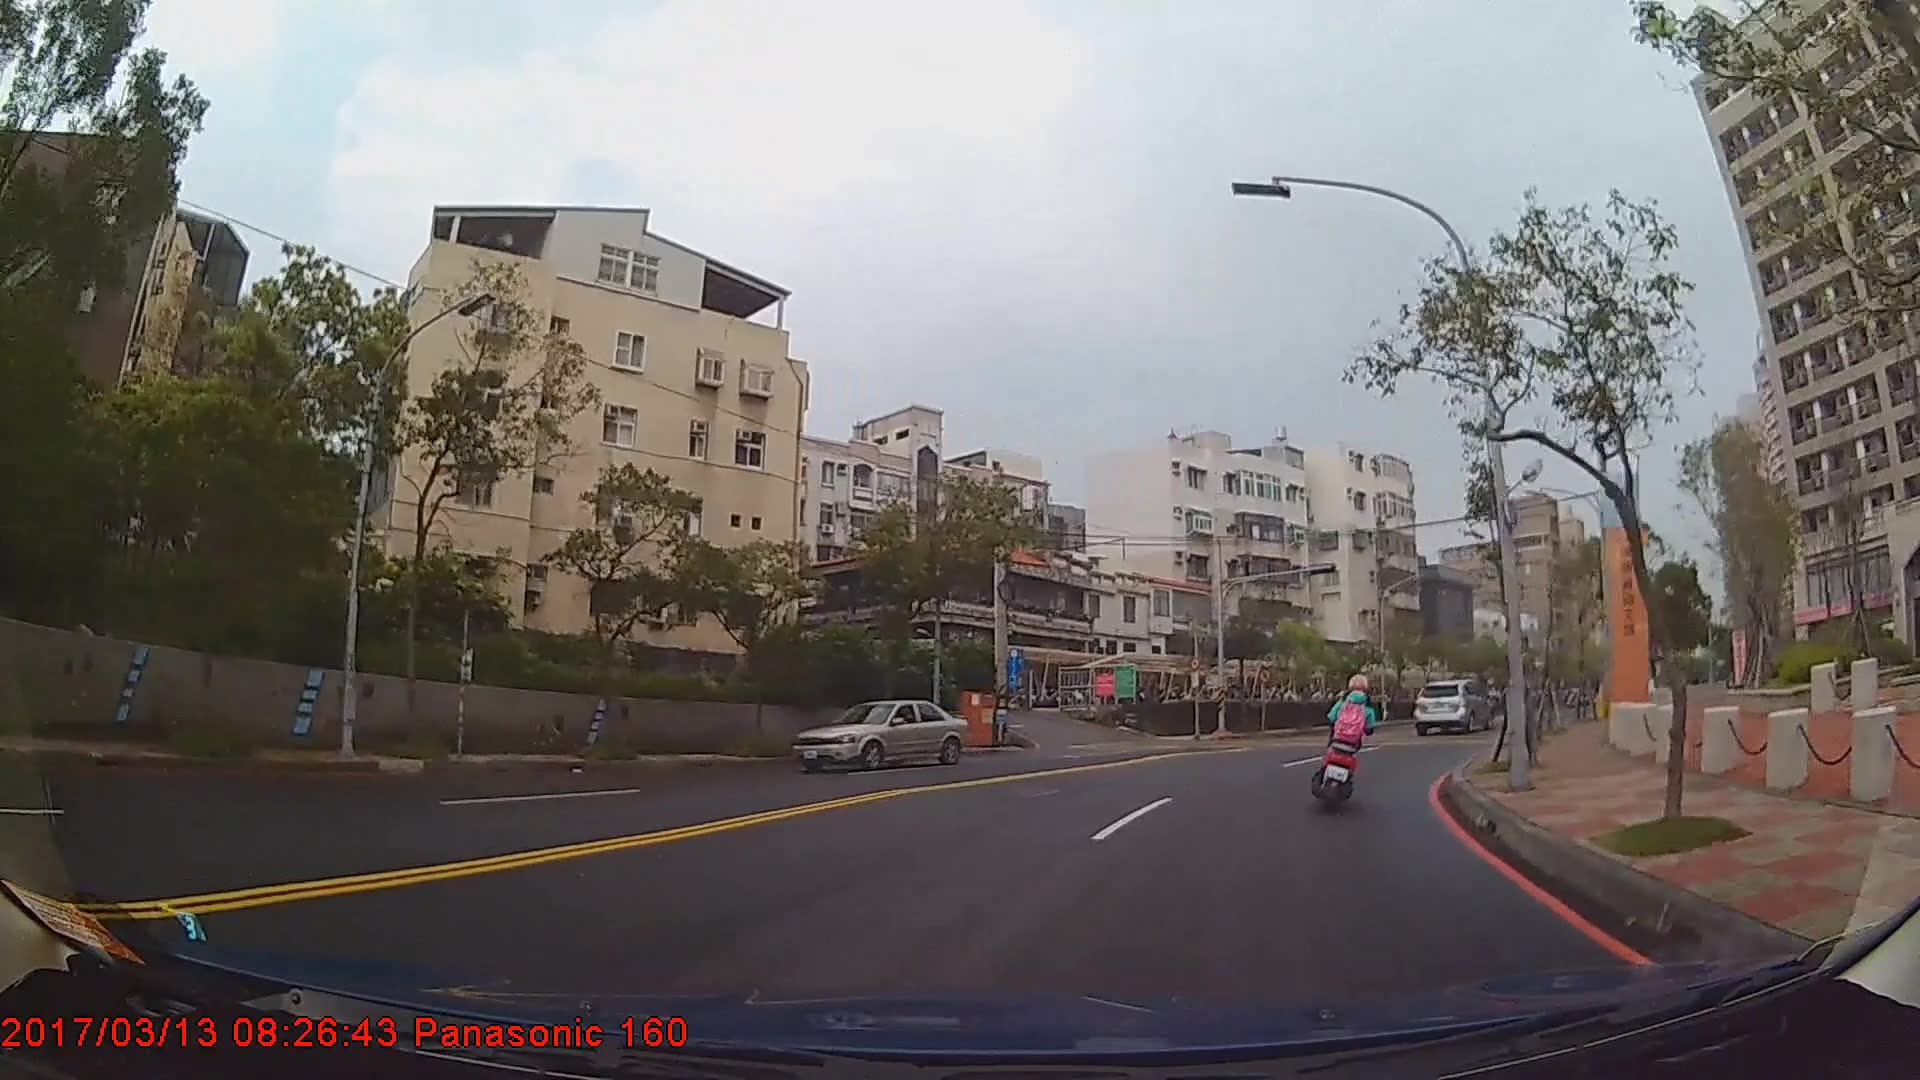rider: (1320, 674, 1380, 804)
vehicle: (789, 699, 971, 772), (1410, 678, 1494, 732)
